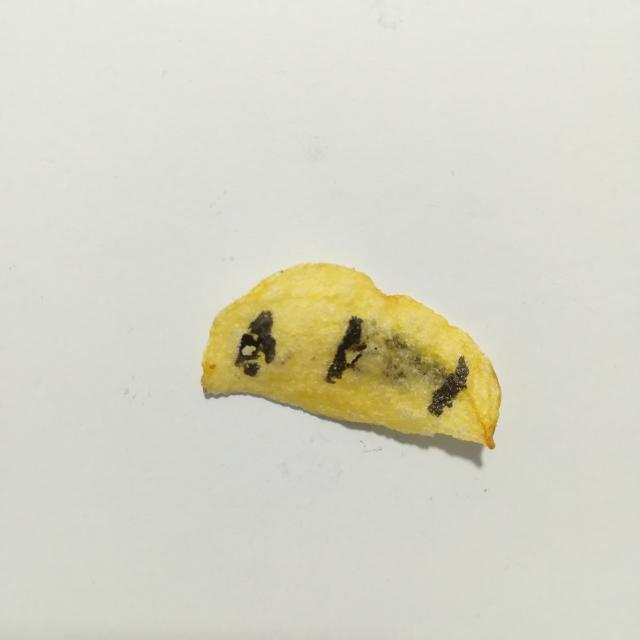chip: (201, 263, 501, 449)
damaged: (326, 316, 366, 383), (428, 356, 469, 416), (235, 311, 275, 366), (243, 362, 259, 377)
semi-damaged: (353, 319, 451, 394)
